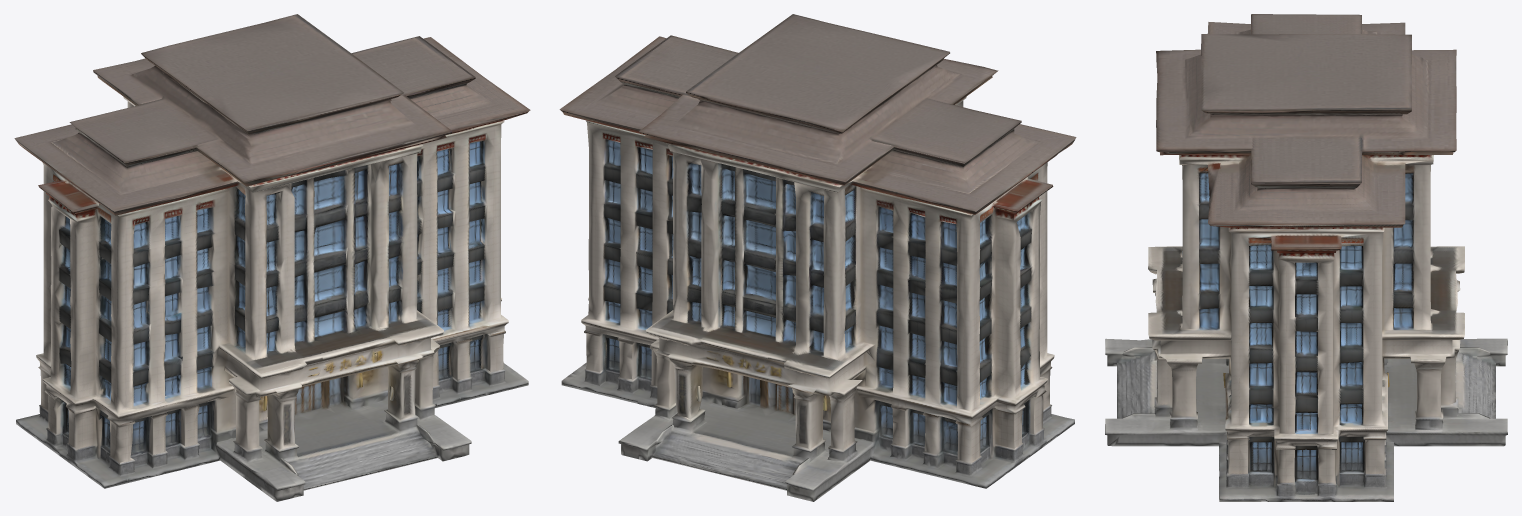
File: 04-office-building-3d-model-51.glb
The picture shows the model from 3 angles, left to right: view 1: azimuth 30°, elevation 25°; view 2: azimuth 150°, elevation 25°; view 3: azimuth 270°, elevation 25°; orthographic projection.
Visible parts, largest first — view 1: tripo_node_89d6c623-da84-4ba7-936c-b41e5222cdd6; view 2: tripo_node_89d6c623-da84-4ba7-936c-b41e5222cdd6; view 3: tripo_node_89d6c623-da84-4ba7-936c-b41e5222cdd6.
Part boxes in pixels (x1,y1,x2,y2): tripo_node_89d6c623-da84-4ba7-936c-b41e5222cdd6: (14,14,530,501); tripo_node_89d6c623-da84-4ba7-936c-b41e5222cdd6: (559,14,1076,501); tripo_node_89d6c623-da84-4ba7-936c-b41e5222cdd6: (1105,14,1507,501).
Size of the model in its own units: 0.9862 by 0.7225 by 0.8033.
1 material, 1 textured.
